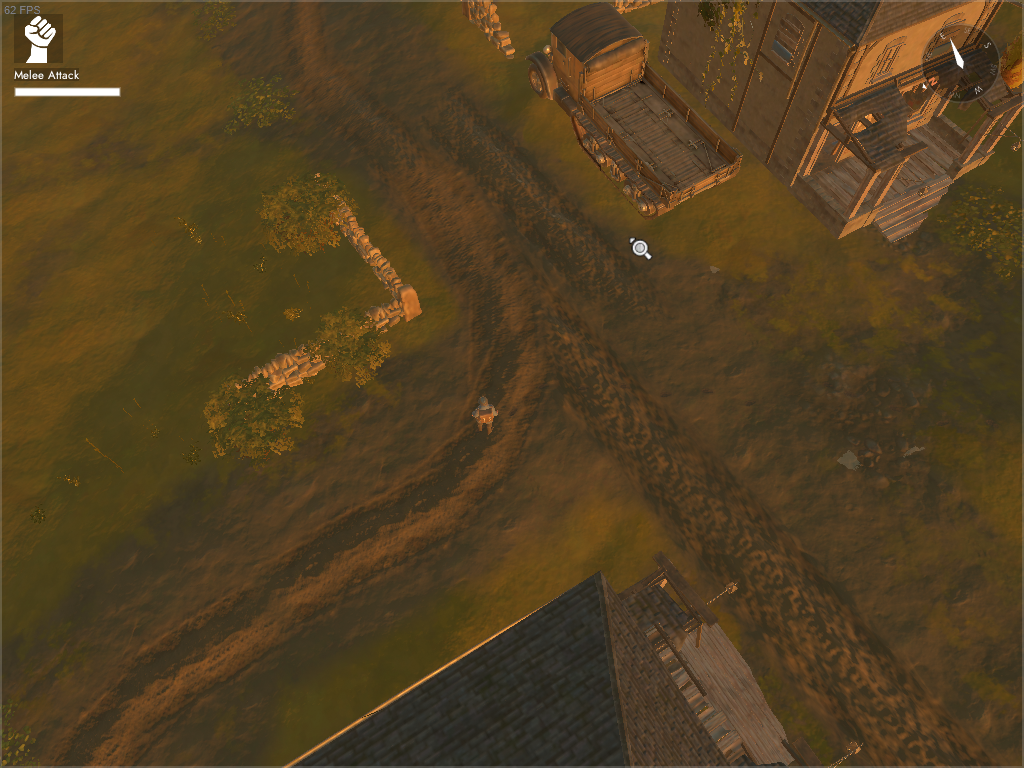flatbed: (520, 1, 746, 223)
player: (468, 394, 503, 438)
